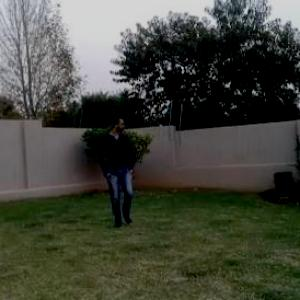follow: (102, 112, 134, 225)
